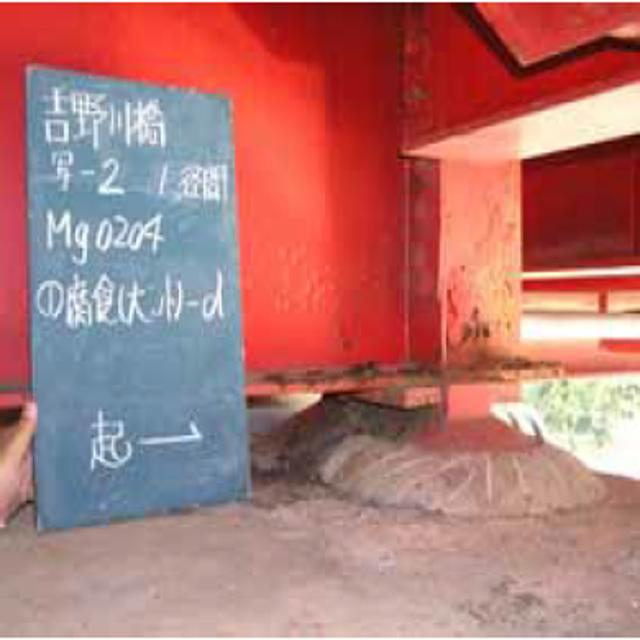corrosion: (266, 304, 517, 466)
